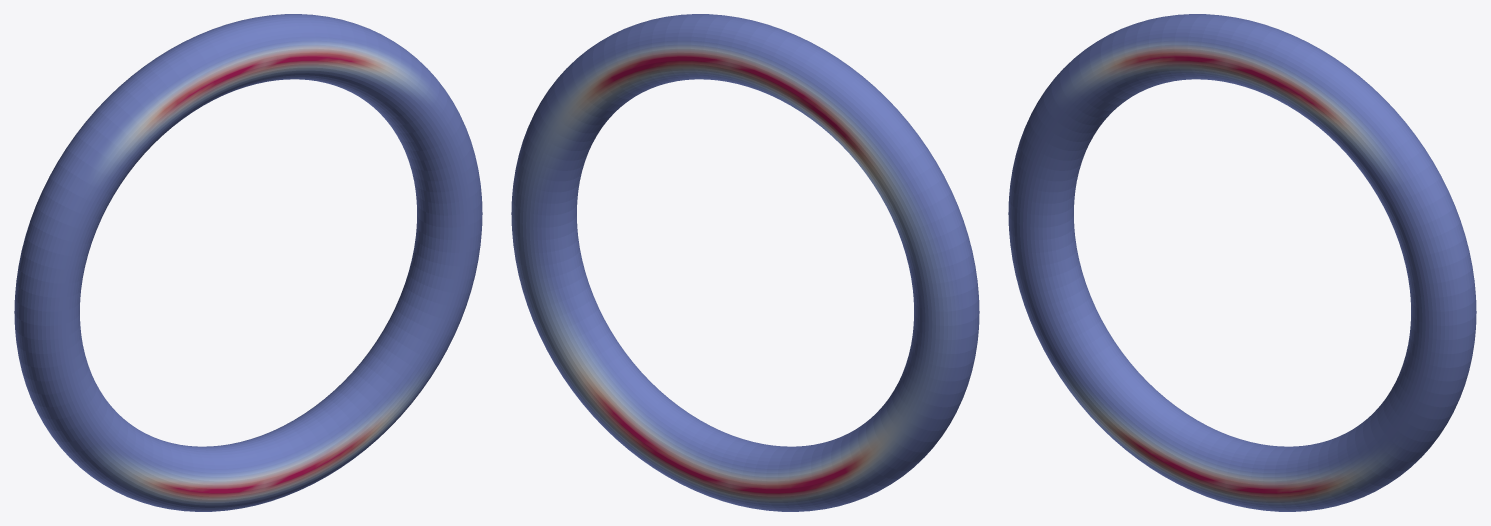
3 renders of one model, left to right at view 1: azimuth 30°, elevation 25°; view 2: azimuth 150°, elevation 25°; view 3: azimuth 330°, elevation 25°, orthographic.
Parts seen in each view (by area): view 1: world; view 2: world; view 3: world.
Part boxes in pixels (x1,y1,x2,y2): world: (14,14,482,511); world: (511,14,979,511); world: (1008,14,1476,511).
Bounding box in the file's own units: 20.53 × 20.53 × 2.53.
